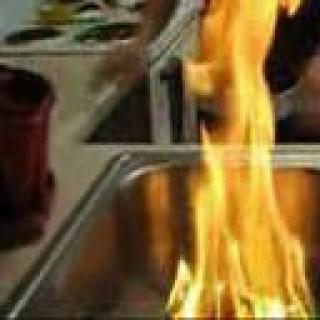fire: (177, 0, 310, 320)
